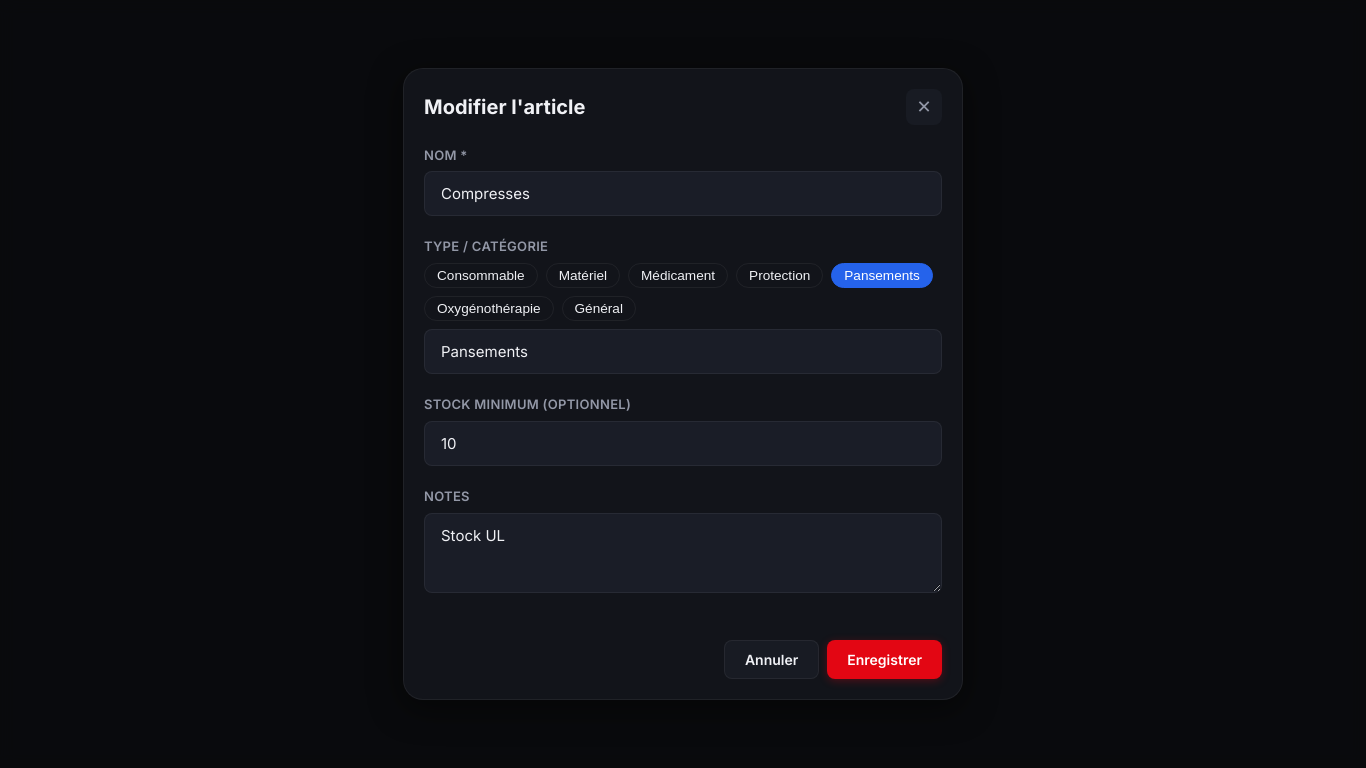
it: EditItemModal › sélectionne une catégorie via les boutons rapides
Click the button "Médicament" at (678, 276), box [628,263,728,288]
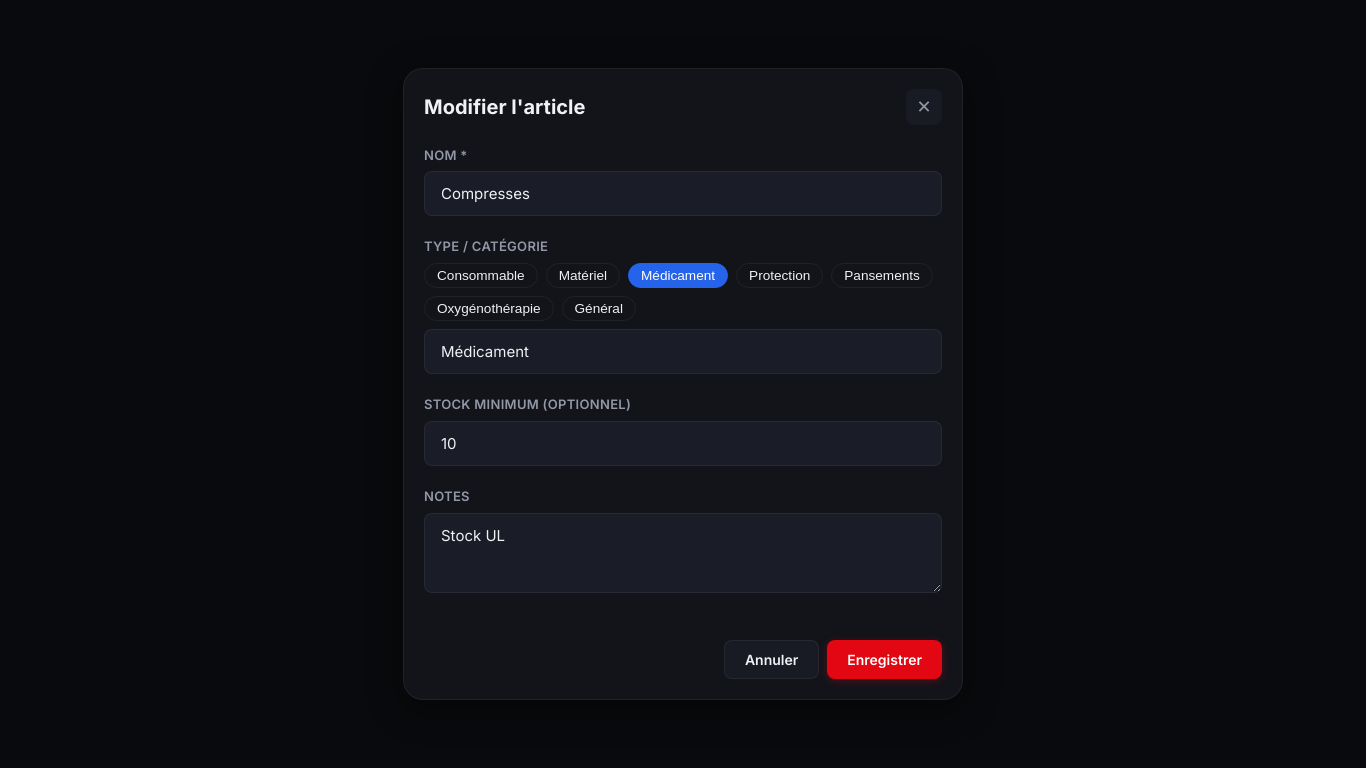
Now the field showing "Médicament" below "Type / Catégorie" is shown, box [424,329,942,374]
